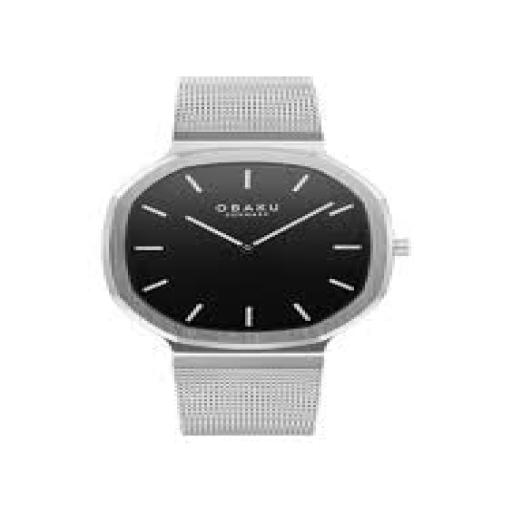KolSaati: (82, 41, 412, 454)
